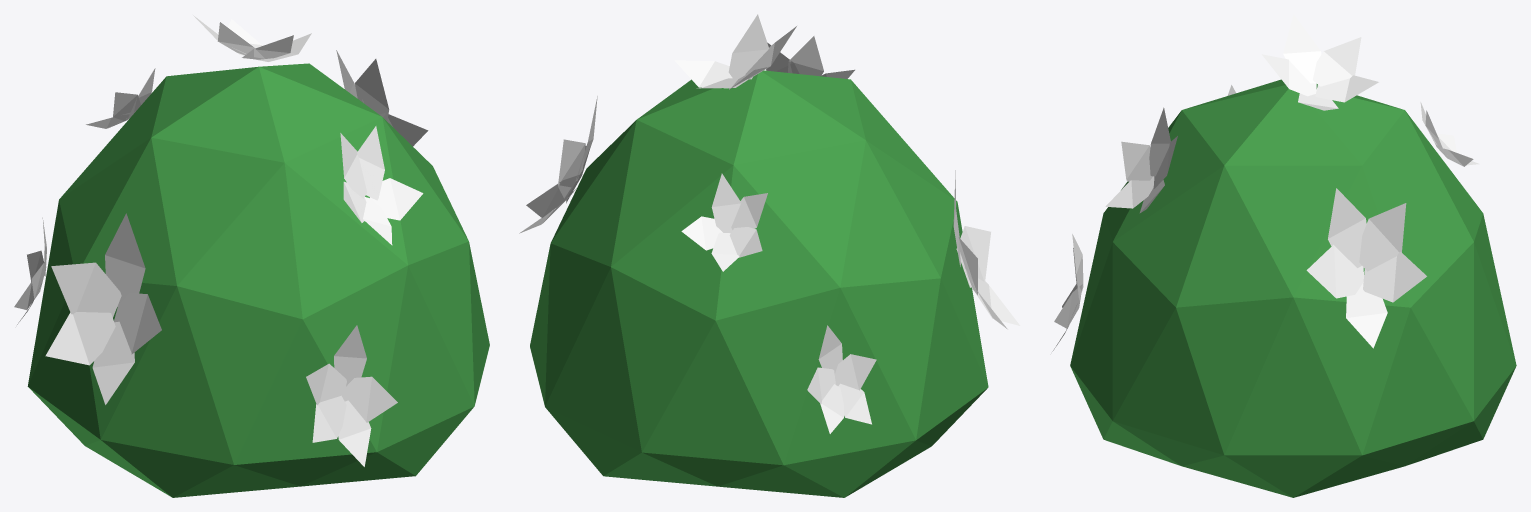
The model's file is big_flower2.obj.
3 views of the same model, side by side, from view 1: azimuth 30°, elevation 25°; view 2: azimuth 150°, elevation 25°; view 3: azimuth 270°, elevation 25° (orthographic). The views are drawn at different scales.
Bounding box in the file's own units: 8.34 × 7.58 × 8.25.
